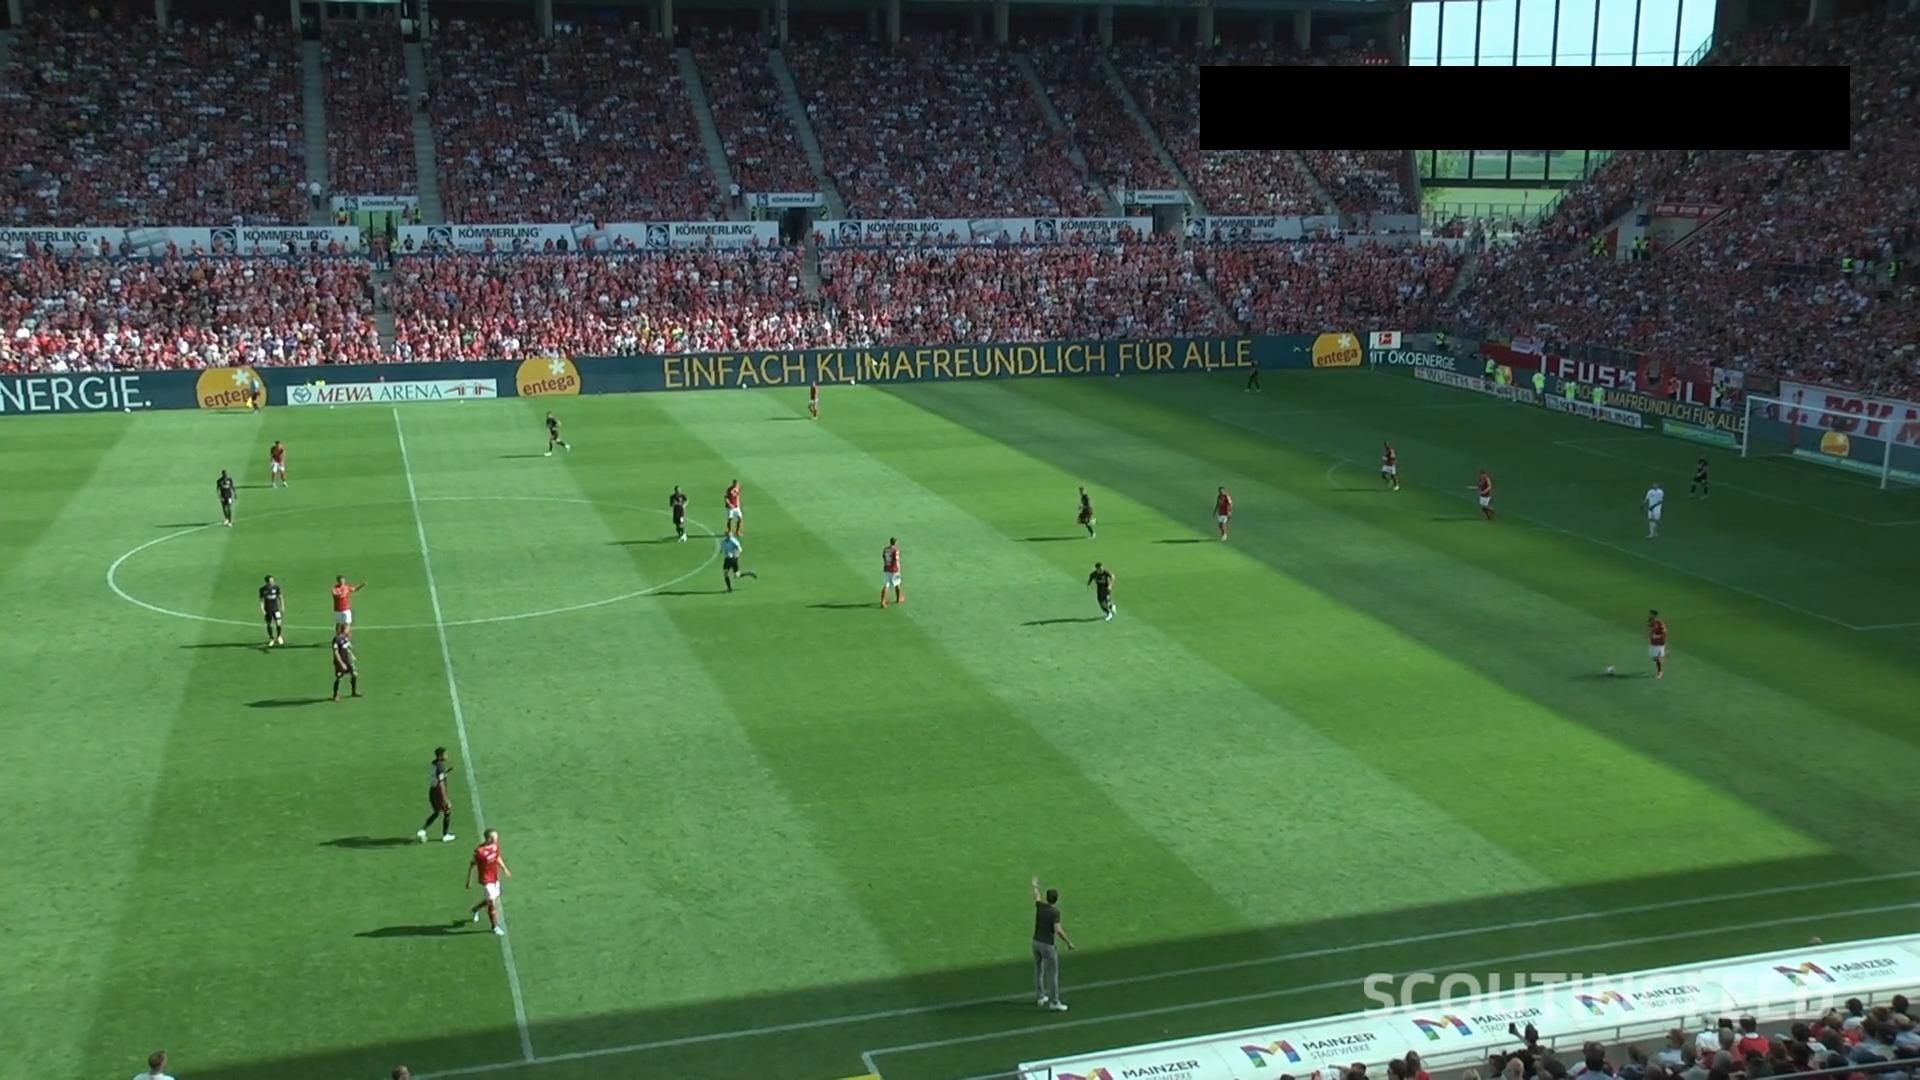ball: (1605, 663, 1617, 676)
